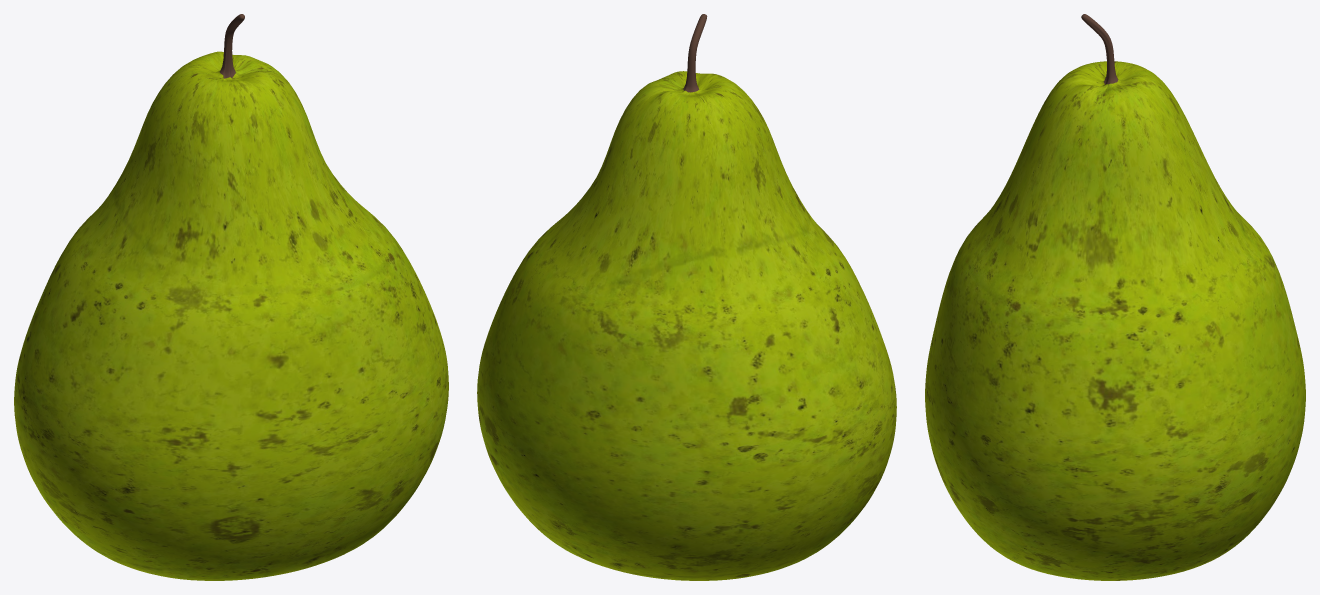
Rendered from Pear2.fbx.
The picture shows the model from 3 angles, left to right: view 1: azimuth 30°, elevation 25°; view 2: azimuth 150°, elevation 25°; view 3: azimuth 270°, elevation 25°; orthographic projection. The views are drawn at different scales.
Parts seen in each view (by area): view 1: Pear2; view 2: Pear2; view 3: Pear2.
Boxes of the visible parts, <box> form: Pear2: <box>14,14,448,580</box>; Pear2: <box>477,14,896,580</box>; Pear2: <box>925,14,1305,580</box>.
Size of the model in its own units: 1.43 by 1.92 by 1.26.
Materials: 2 (2 with a texture image).
